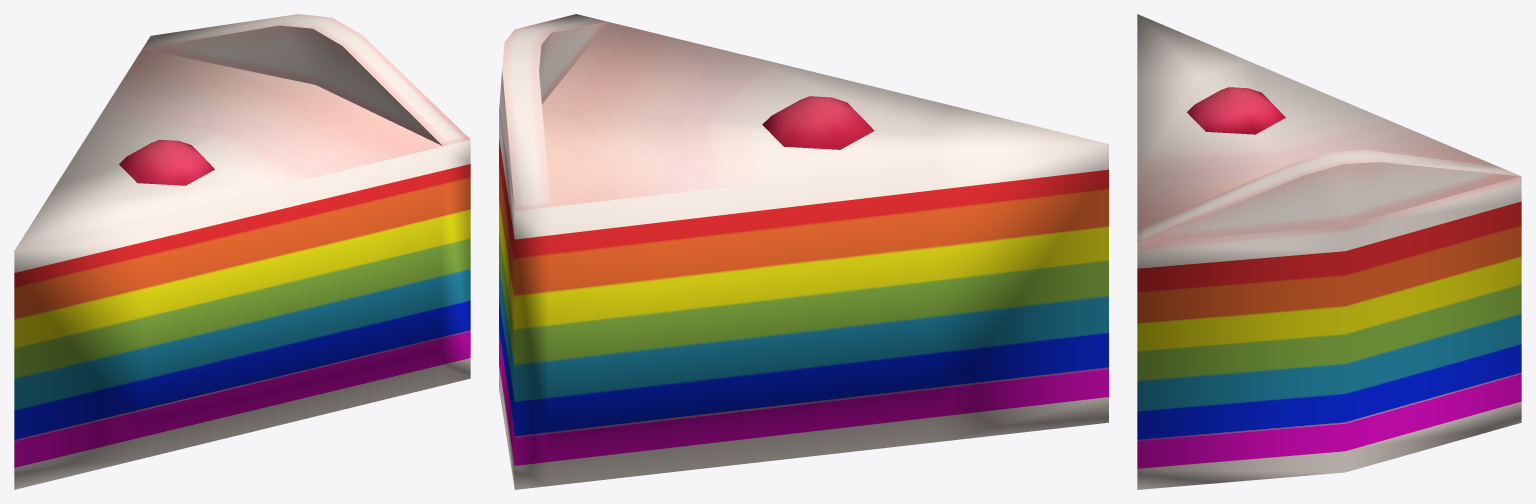
The model's file is rainbow_cake_slice.fbx.
3 views of the same model, side by side, from view 1: azimuth 30°, elevation 25°; view 2: azimuth 150°, elevation 25°; view 3: azimuth 270°, elevation 25° (orthographic). The views are drawn at different scales.
Visible parts, largest first — view 1: rainbow_cake_slice; view 2: rainbow_cake_slice; view 3: rainbow_cake_slice.
Boxes of the visible parts, x1,y1,x2,y2 form: rainbow_cake_slice: (14,14,470,489); rainbow_cake_slice: (499,14,1108,489); rainbow_cake_slice: (1137,14,1521,489).
Bounding box in the file's own units: 30 × 18.66 × 21.21.
